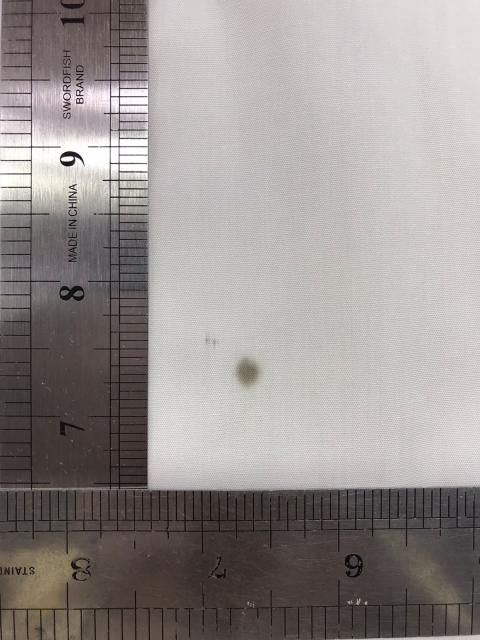Dirty_mark: (233, 355, 260, 389)
